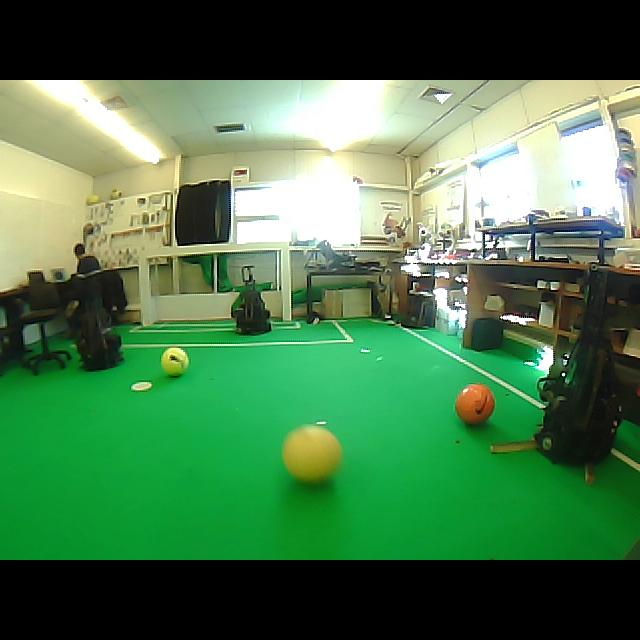ball: (283, 425, 341, 482), (455, 383, 494, 424), (161, 348, 189, 376), (86, 194, 100, 204), (110, 189, 121, 199)
goal: (139, 257, 152, 325), (280, 243, 291, 320)
robot: (536, 269, 621, 464), (78, 300, 124, 370), (233, 266, 270, 334)
